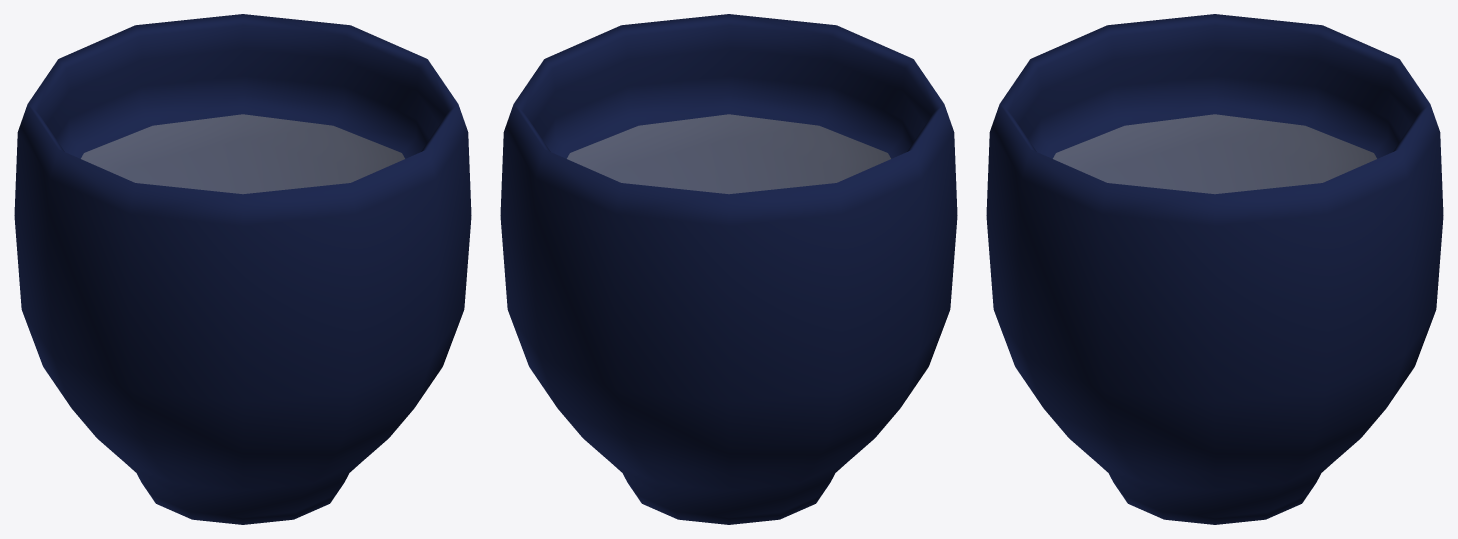
Rendered from Bebida.fbx.
The picture shows the model from 3 angles, left to right: view 1: azimuth 30°, elevation 25°; view 2: azimuth 150°, elevation 25°; view 3: azimuth 270°, elevation 25°; orthographic projection.
Parts seen in each view (by area): view 1: Sake.001; view 2: Sake.001; view 3: Sake.001.
Boxes of the visible parts, x1,y1,x2,y2 form: Sake.001: (14, 14, 471, 524); Sake.001: (500, 14, 957, 524); Sake.001: (986, 14, 1443, 524).
Size of the model in its own units: 7.91 by 7.36 by 7.99.
